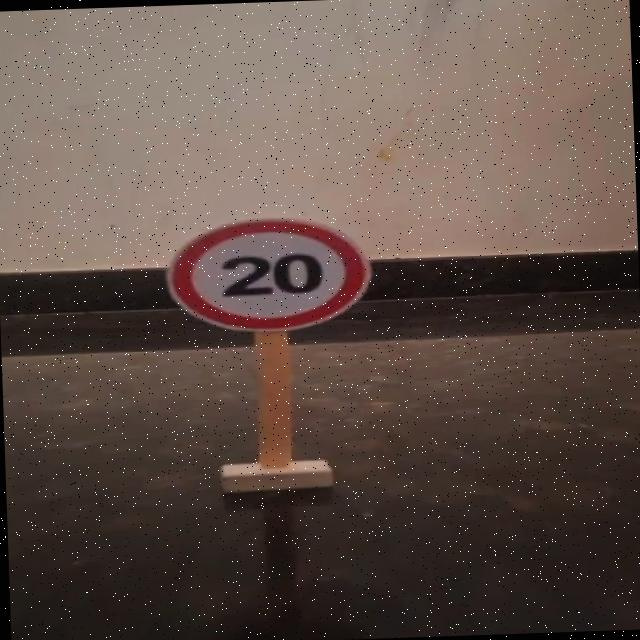Speed20: (153, 207, 384, 341)
